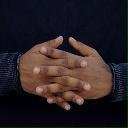hand: (17, 35, 91, 111), (34, 37, 114, 103)
